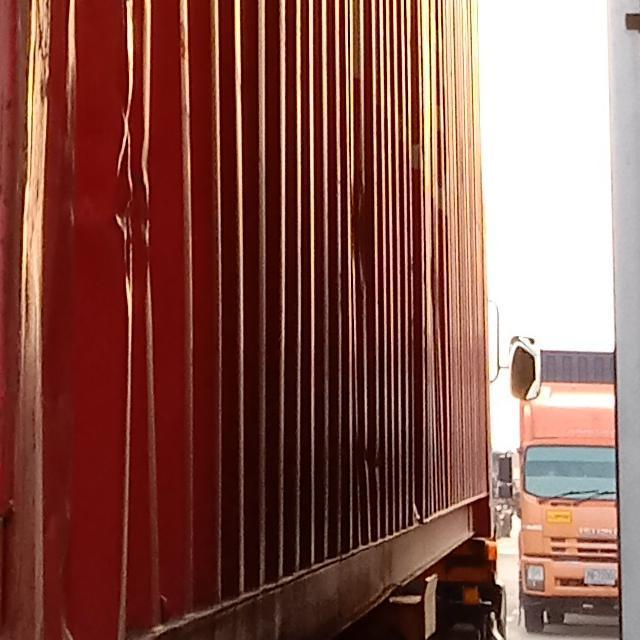dent: (82, 62, 195, 291), (410, 174, 429, 525), (346, 176, 381, 301), (350, 432, 396, 499)
